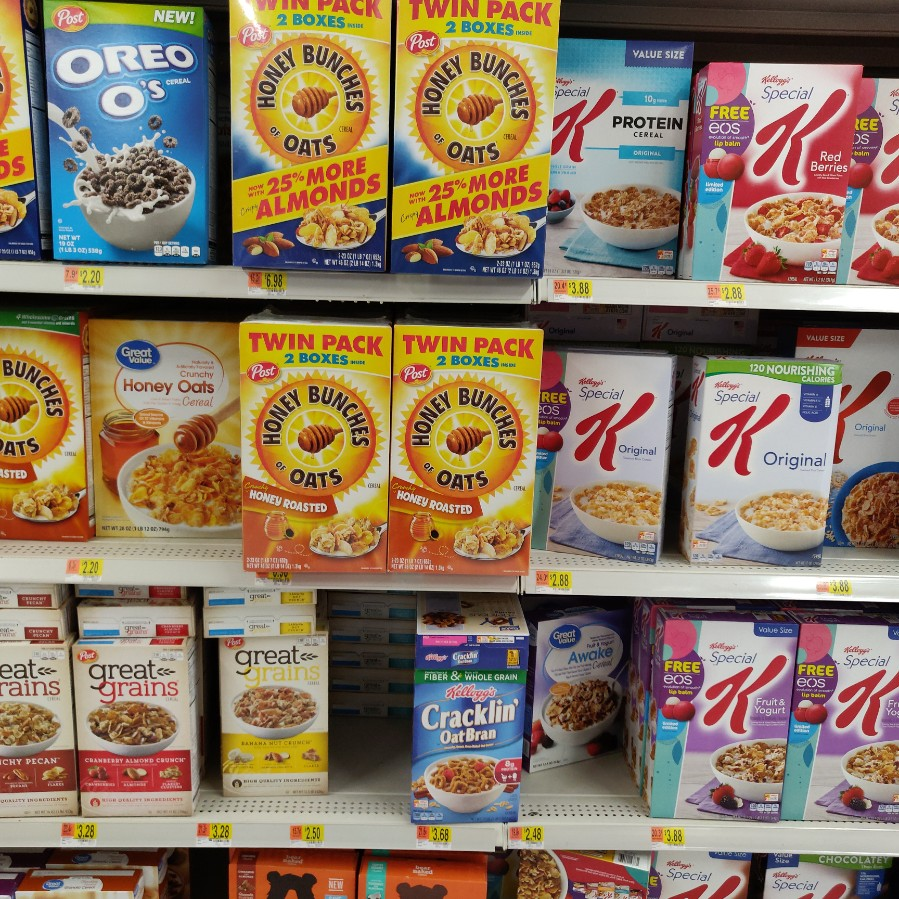Oreo-563424384: (39, 2, 217, 257)
